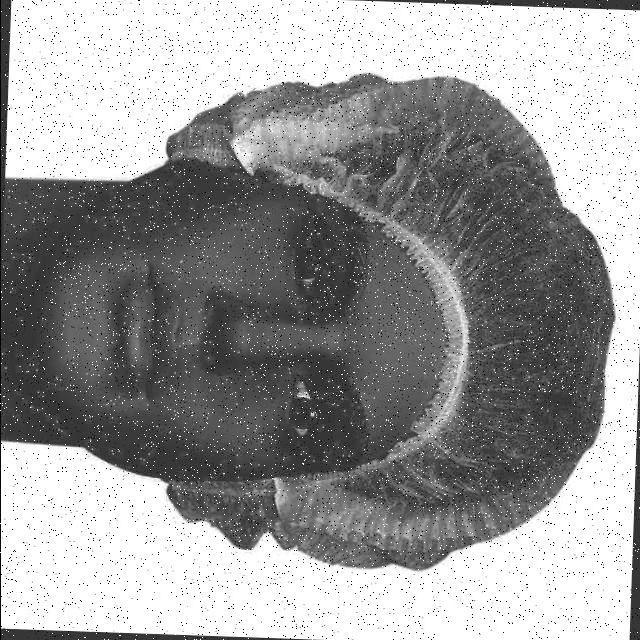gloves: (375, 76, 629, 590)
no_hairnet: (76, 140, 232, 500)
